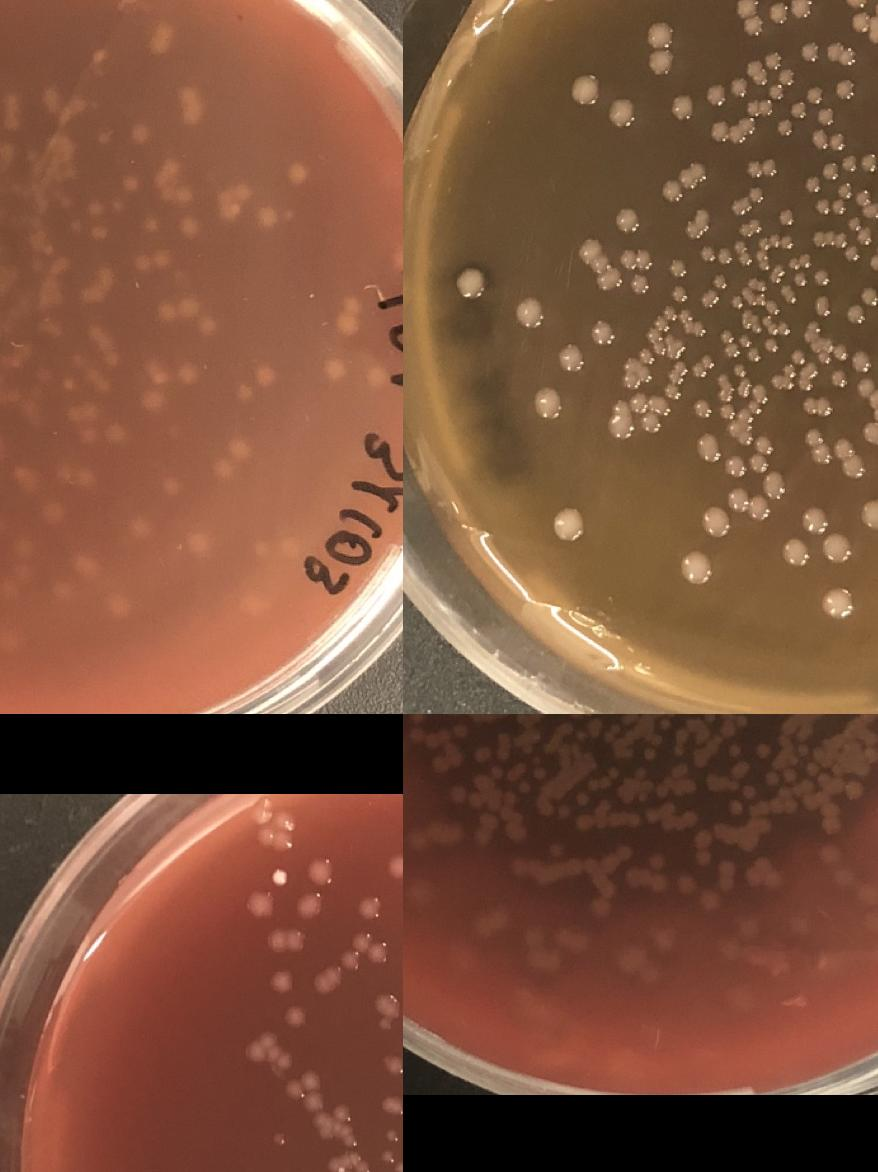pddamselae: (724, 434, 786, 496), (800, 425, 868, 481), (802, 152, 878, 192), (610, 392, 671, 436), (722, 486, 772, 522), (662, 161, 708, 200), (646, 304, 692, 342), (646, 18, 676, 76), (854, 378, 878, 445), (754, 232, 794, 272), (773, 100, 810, 137), (765, 0, 815, 26), (845, 286, 878, 324), (704, 78, 750, 104), (734, 0, 765, 38), (822, 587, 854, 617), (700, 506, 730, 538), (554, 506, 583, 538), (820, 532, 850, 562), (532, 388, 562, 418), (458, 266, 487, 297), (778, 536, 807, 566), (682, 550, 711, 580), (556, 344, 585, 374), (608, 95, 636, 126), (590, 317, 618, 348), (572, 74, 600, 105), (668, 92, 696, 122), (516, 296, 544, 326), (810, 128, 848, 150), (825, 41, 858, 66), (694, 432, 722, 458), (594, 264, 622, 290), (744, 157, 780, 177), (577, 237, 604, 263), (811, 230, 849, 248), (802, 506, 828, 532), (615, 206, 641, 232), (812, 196, 846, 215), (620, 251, 654, 268), (862, 496, 878, 529), (804, 396, 832, 414), (722, 328, 740, 356), (738, 217, 762, 237), (804, 84, 826, 105), (777, 66, 800, 86), (734, 240, 753, 264), (718, 374, 734, 402), (849, 350, 871, 370), (814, 106, 836, 126), (814, 296, 836, 316), (799, 40, 821, 60), (762, 49, 784, 69), (710, 120, 732, 140), (785, 254, 812, 270), (835, 79, 857, 98), (685, 218, 704, 236), (732, 196, 750, 214), (693, 398, 711, 416), (690, 360, 708, 378), (669, 258, 687, 276), (630, 276, 648, 292), (842, 0, 868, 9), (699, 246, 714, 260), (671, 286, 686, 300), (856, 190, 870, 204), (847, 214, 861, 228), (846, 246, 860, 260), (832, 344, 846, 358), (832, 370, 846, 384), (798, 376, 812, 390), (790, 350, 804, 364), (780, 209, 794, 223), (750, 186, 764, 200), (748, 400, 762, 414), (736, 384, 750, 398), (732, 362, 746, 376), (722, 404, 736, 418), (718, 248, 732, 262), (702, 291, 716, 305), (857, 229, 871, 242), (838, 183, 852, 196), (791, 272, 806, 284), (818, 350, 832, 362), (816, 270, 830, 282), (729, 296, 743, 308), (714, 274, 726, 288), (640, 348, 654, 360), (870, 255, 878, 269)
pdpiscicida: (320, 928, 390, 990), (251, 800, 298, 853), (247, 1028, 296, 1070), (285, 1070, 324, 1110), (88, 325, 120, 365), (267, 924, 307, 952), (88, 270, 112, 301), (66, 400, 98, 422), (217, 190, 241, 219), (154, 158, 180, 184), (310, 856, 334, 884), (374, 992, 398, 1018), (356, 892, 380, 918), (272, 968, 296, 994), (249, 889, 273, 915), (297, 893, 320, 919), (4, 96, 21, 129), (161, 185, 192, 202), (332, 1102, 352, 1122), (285, 1006, 305, 1026), (388, 851, 403, 877), (383, 1054, 403, 1073), (368, 368, 386, 384), (326, 360, 344, 376), (234, 183, 252, 199), (230, 439, 248, 455), (60, 374, 78, 390), (42, 504, 60, 520), (2, 582, 20, 598), (384, 1126, 402, 1142), (200, 318, 217, 334), (133, 253, 150, 269), (120, 174, 137, 190), (57, 463, 74, 479), (16, 562, 33, 578), (290, 166, 308, 181), (92, 49, 110, 64), (260, 210, 276, 226), (190, 535, 206, 551), (180, 87, 196, 103), (158, 22, 174, 38), (154, 249, 170, 265), (144, 391, 160, 407), (132, 516, 148, 532), (108, 424, 124, 440), (90, 222, 106, 238), (82, 425, 98, 441), (68, 218, 84, 234), (14, 539, 30, 555), (234, 386, 252, 400), (345, 297, 360, 313), (257, 366, 272, 382), (217, 462, 232, 478), (185, 105, 200, 121), (182, 300, 197, 316), (144, 215, 160, 230), (98, 128, 113, 144), (86, 198, 101, 214), (80, 469, 95, 485), (182, 219, 197, 234), (180, 364, 194, 380), (164, 482, 180, 496), (162, 303, 176, 319), (152, 366, 166, 382), (152, 38, 166, 54), (132, 124, 148, 138), (110, 198, 124, 214), (378, 1150, 394, 1164)
vangil: (426, 724, 467, 747), (863, 730, 878, 759), (695, 849, 710, 863), (475, 746, 490, 760), (743, 783, 757, 797), (728, 800, 742, 814), (650, 854, 664, 868), (574, 728, 588, 742), (532, 764, 546, 778), (518, 779, 532, 793), (469, 794, 483, 808), (430, 755, 444, 769), (817, 772, 831, 785), (683, 777, 696, 791), (491, 764, 504, 778), (642, 746, 656, 758), (516, 714, 530, 723), (567, 714, 581, 719)
